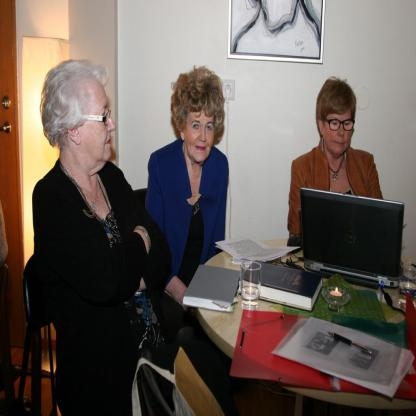board: (298, 188, 406, 294), (240, 260, 262, 312)
